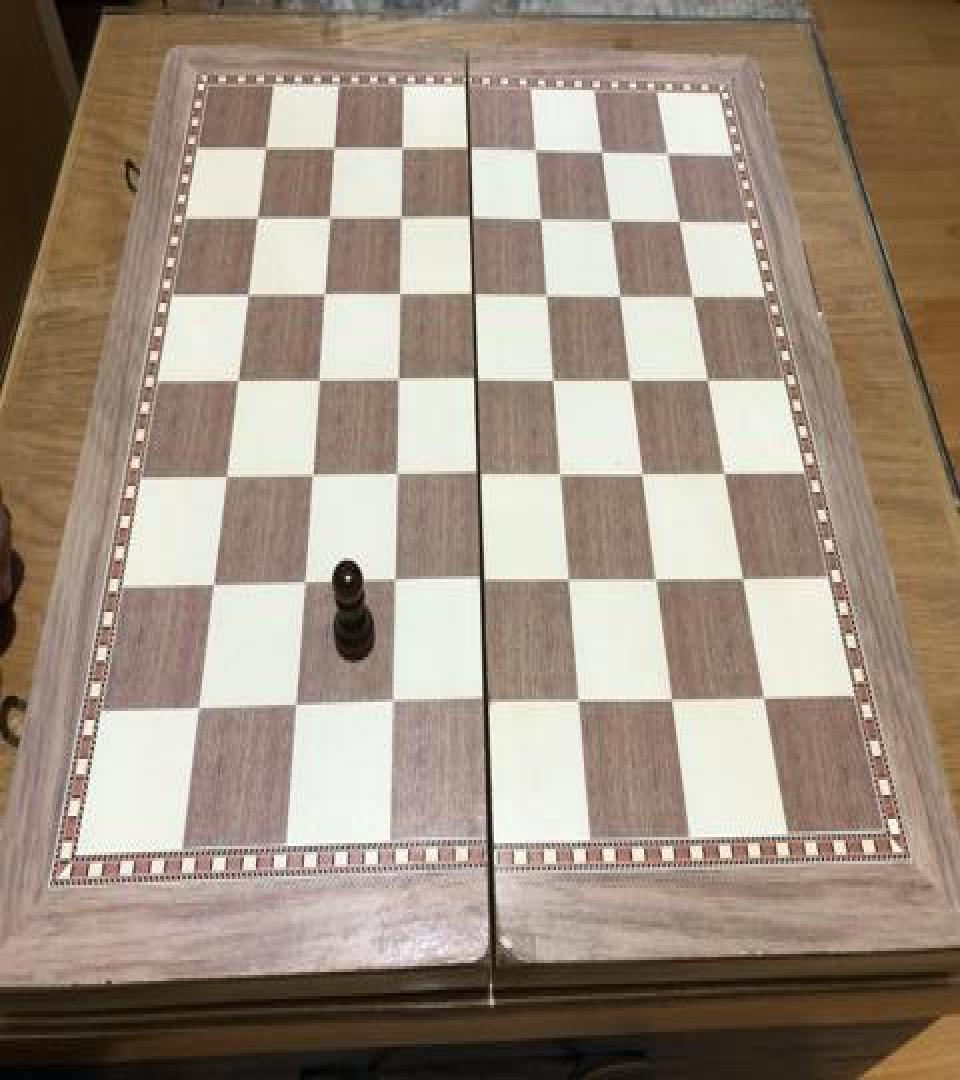xcorner: (632, 454, 658, 494), (549, 454, 575, 494), (469, 562, 495, 602), (658, 132, 684, 171), (592, 132, 618, 171), (525, 131, 551, 170), (458, 131, 484, 170), (390, 131, 416, 170), (322, 129, 348, 168), (254, 129, 280, 168), (670, 201, 696, 240), (317, 198, 343, 237), (245, 198, 271, 237), (683, 276, 709, 315), (610, 276, 636, 315), (536, 276, 562, 315), (462, 276, 488, 315), (387, 276, 413, 315), (312, 276, 338, 315), (235, 276, 261, 315), (697, 360, 723, 399), (620, 360, 646, 399), (542, 360, 568, 399), (464, 360, 490, 399), (713, 453, 739, 492), (466, 456, 492, 495), (383, 456, 409, 495), (731, 558, 757, 597), (645, 559, 671, 598), (557, 561, 583, 600), (380, 564, 406, 603), (290, 565, 316, 604), (200, 565, 226, 604), (752, 678, 778, 717), (659, 680, 685, 719), (566, 681, 592, 720), (472, 684, 498, 723), (377, 686, 403, 725), (282, 687, 308, 726), (185, 690, 211, 729), (600, 200, 626, 238), (530, 200, 556, 238), (460, 200, 486, 238), (389, 200, 415, 238), (385, 362, 411, 400), (305, 362, 331, 400), (225, 362, 251, 400), (298, 458, 324, 496), (213, 458, 239, 496)
